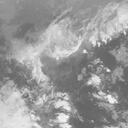cyclone: (32, 26, 78, 77)
